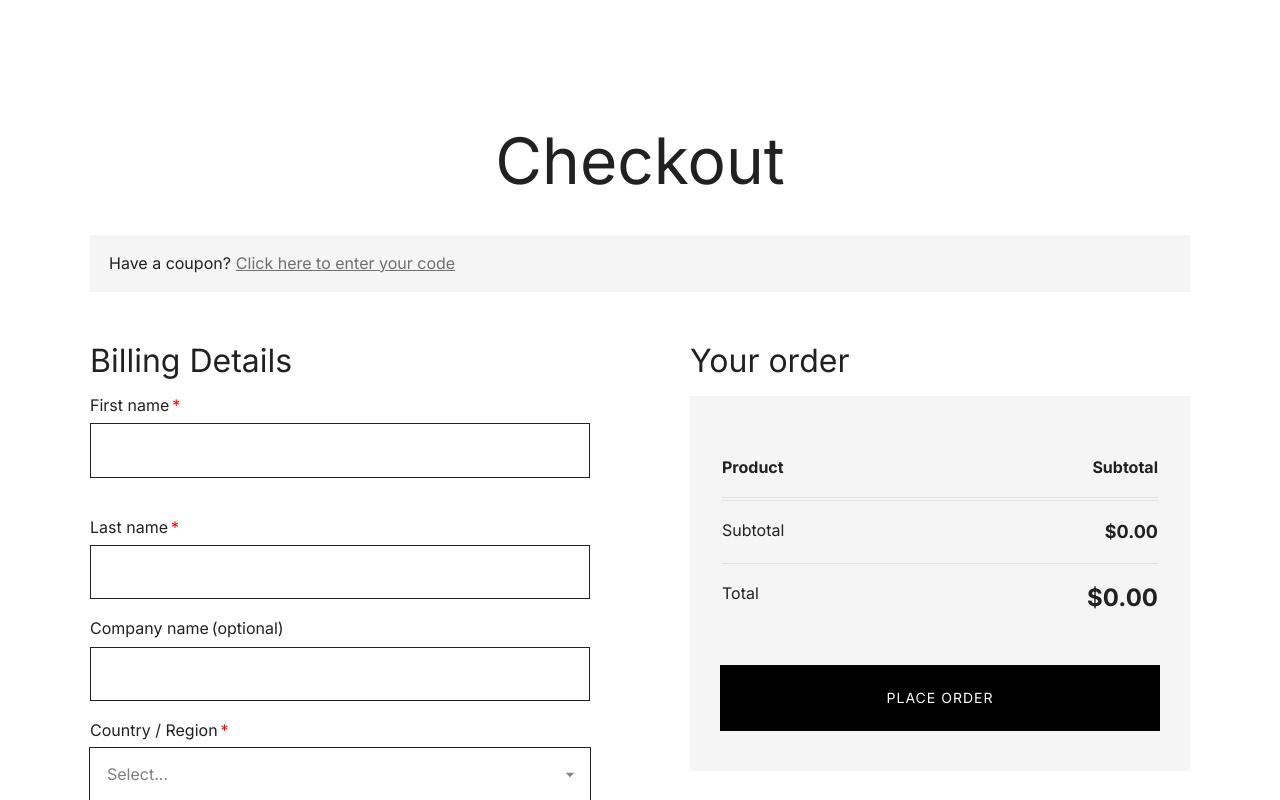
Checkout › should display an error message if company name is not valid
The image size is (1280, 800).
In the field labelled "Company name(optional)": point(340, 674) top-left (90, 647), bottom-right (590, 701), type "an #1^"
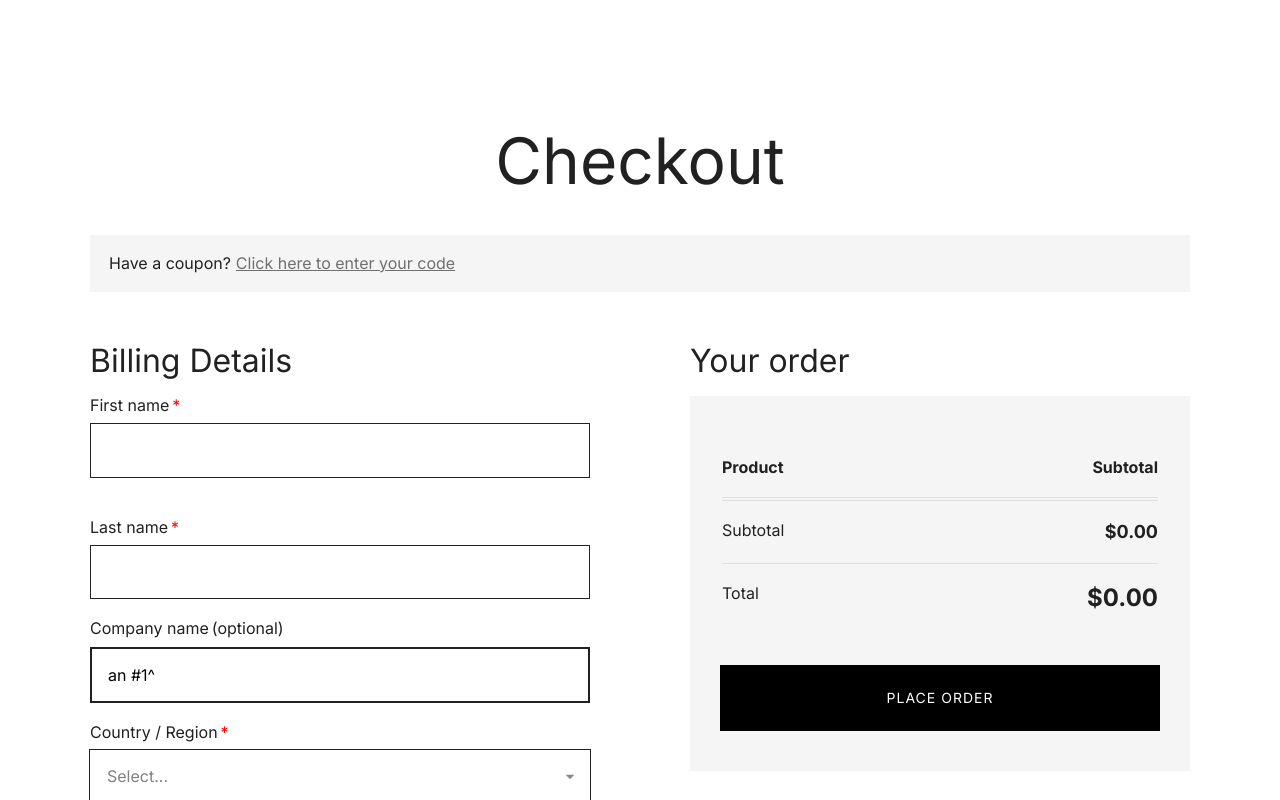
Click the button "PLACE ORDER": point(940, 698) top-left (720, 665), bottom-right (1160, 731)
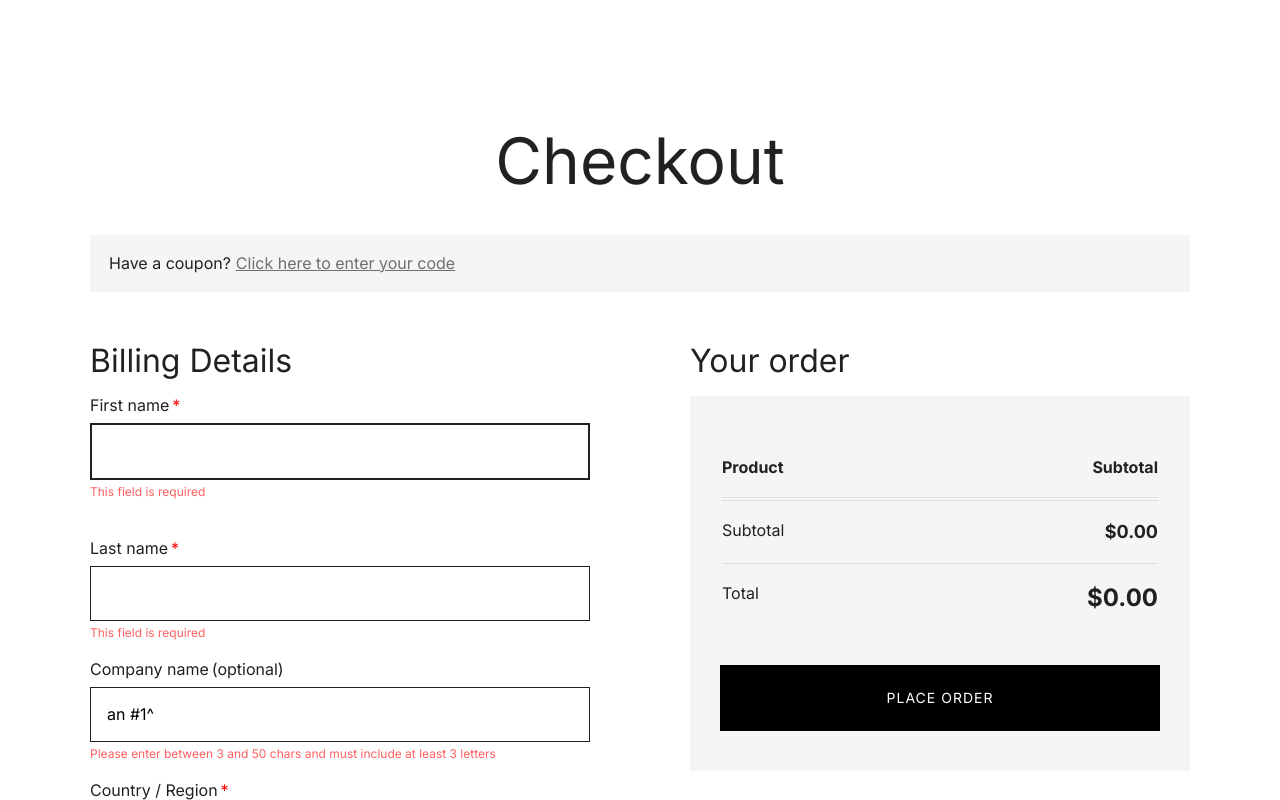
Result: the text "Please enter between 3 and 50 chars and must include at least 3 letters" is shown at top-left (90, 746), bottom-right (496, 761)
